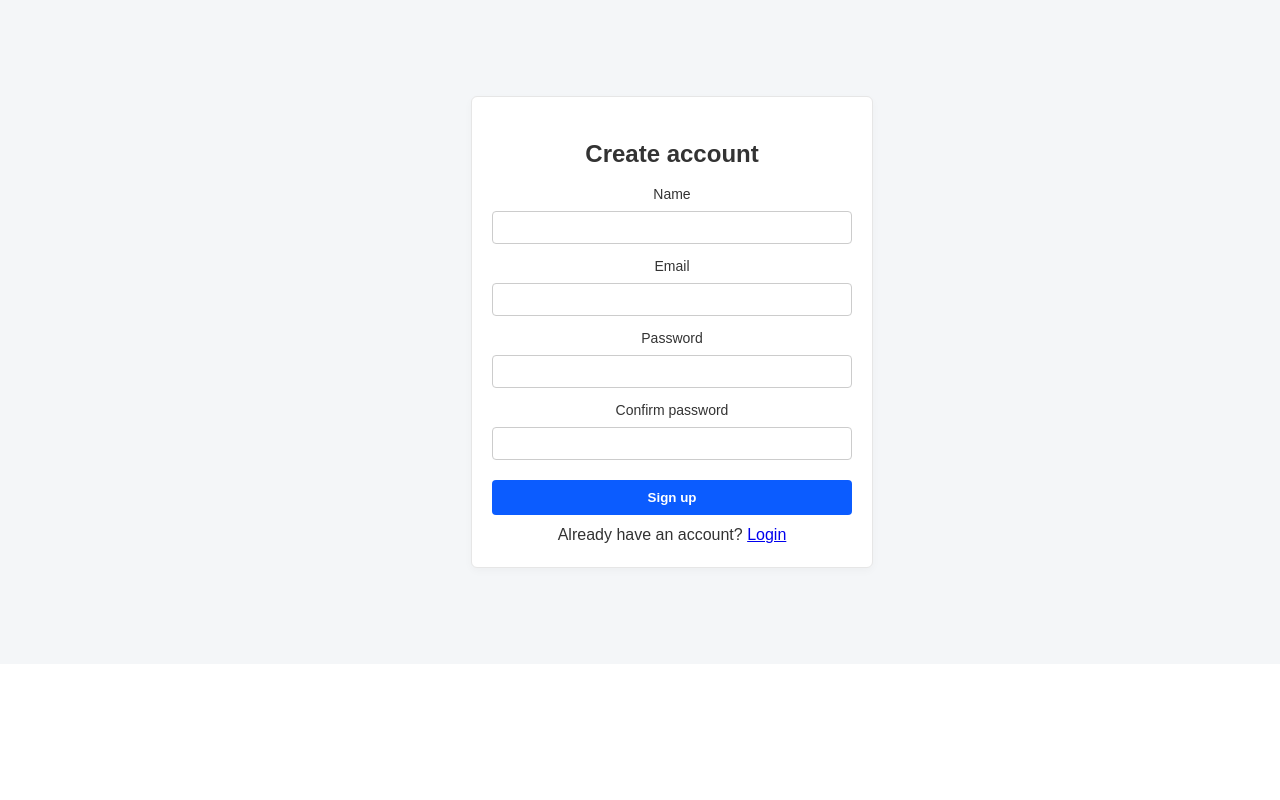
Test: shows invalid email and short password errors
In the field labelled "Email": (672, 300) [492,284,852,316], type "bad-email"
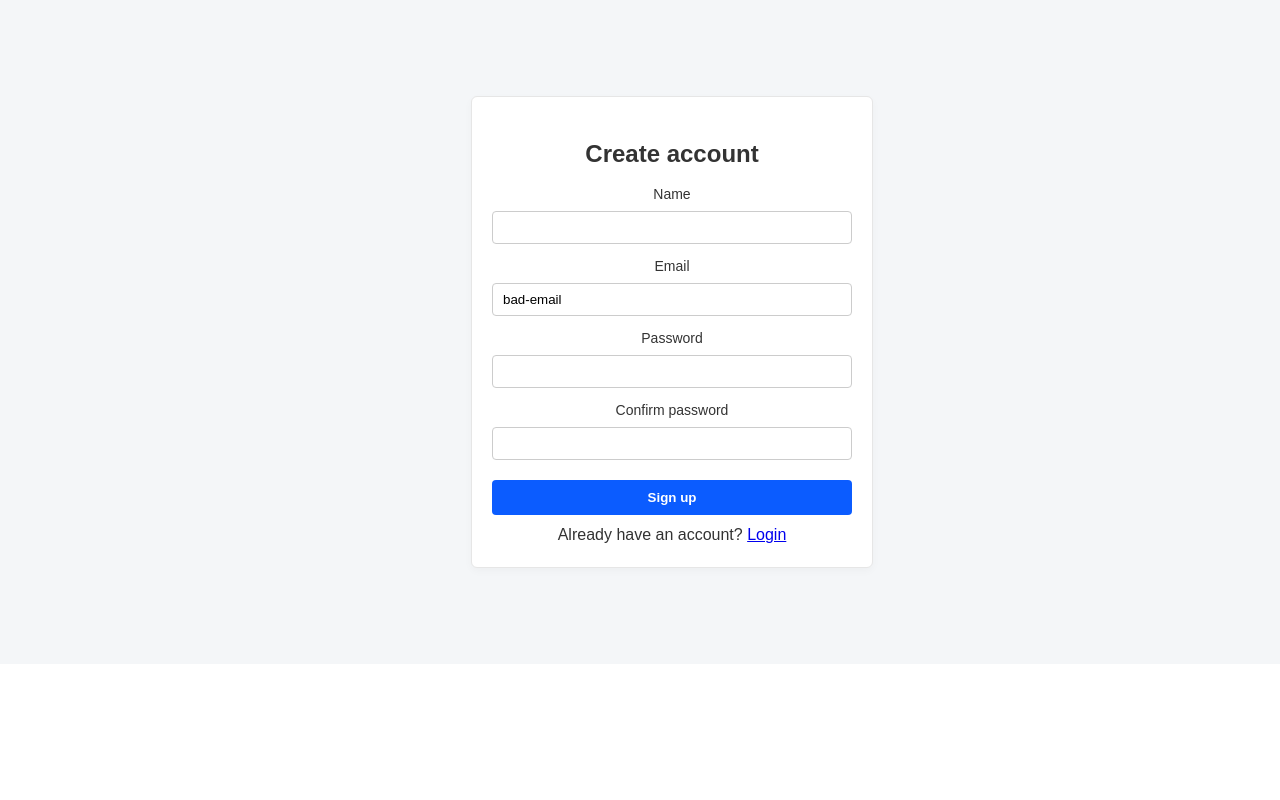
In the password field labelled "Password": (672, 372) [492,356,852,388], type "123"
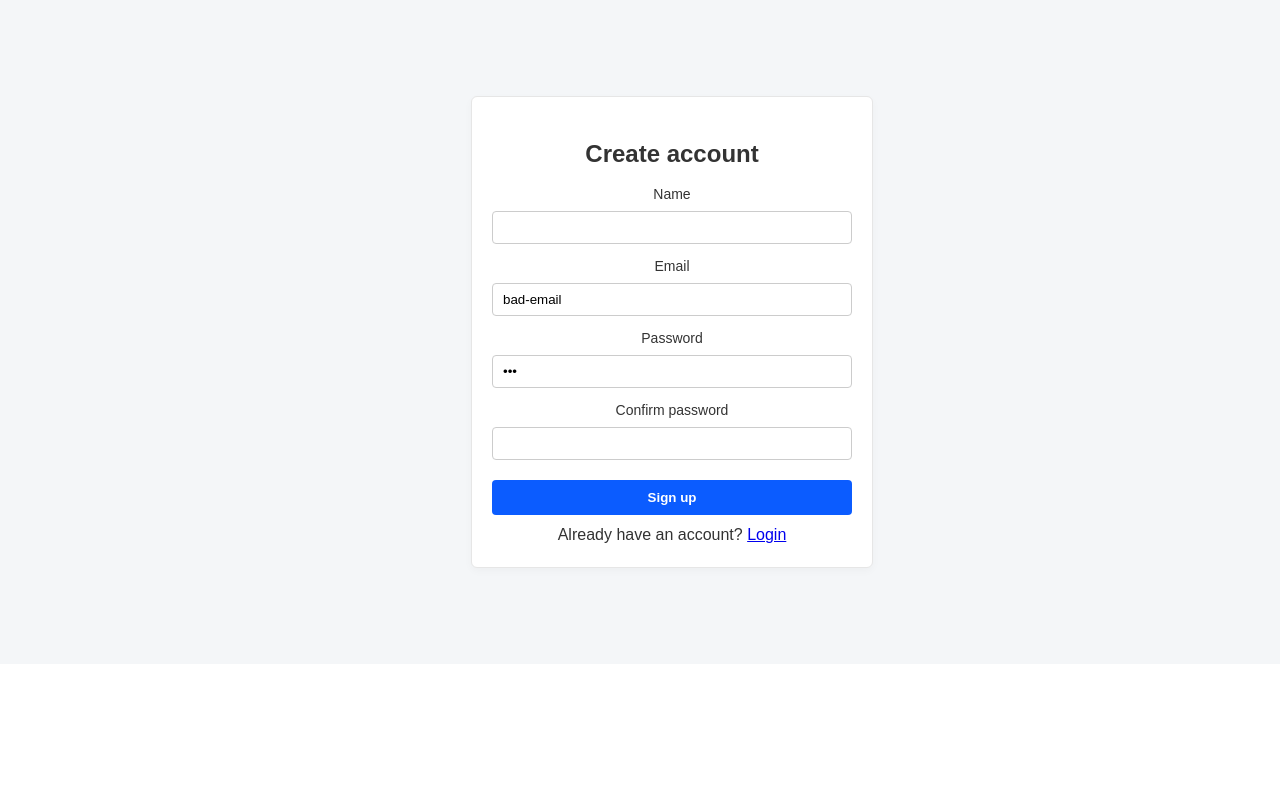
In the password field labelled "Confirm password": (672, 444) [492,428,852,460], type "1234"
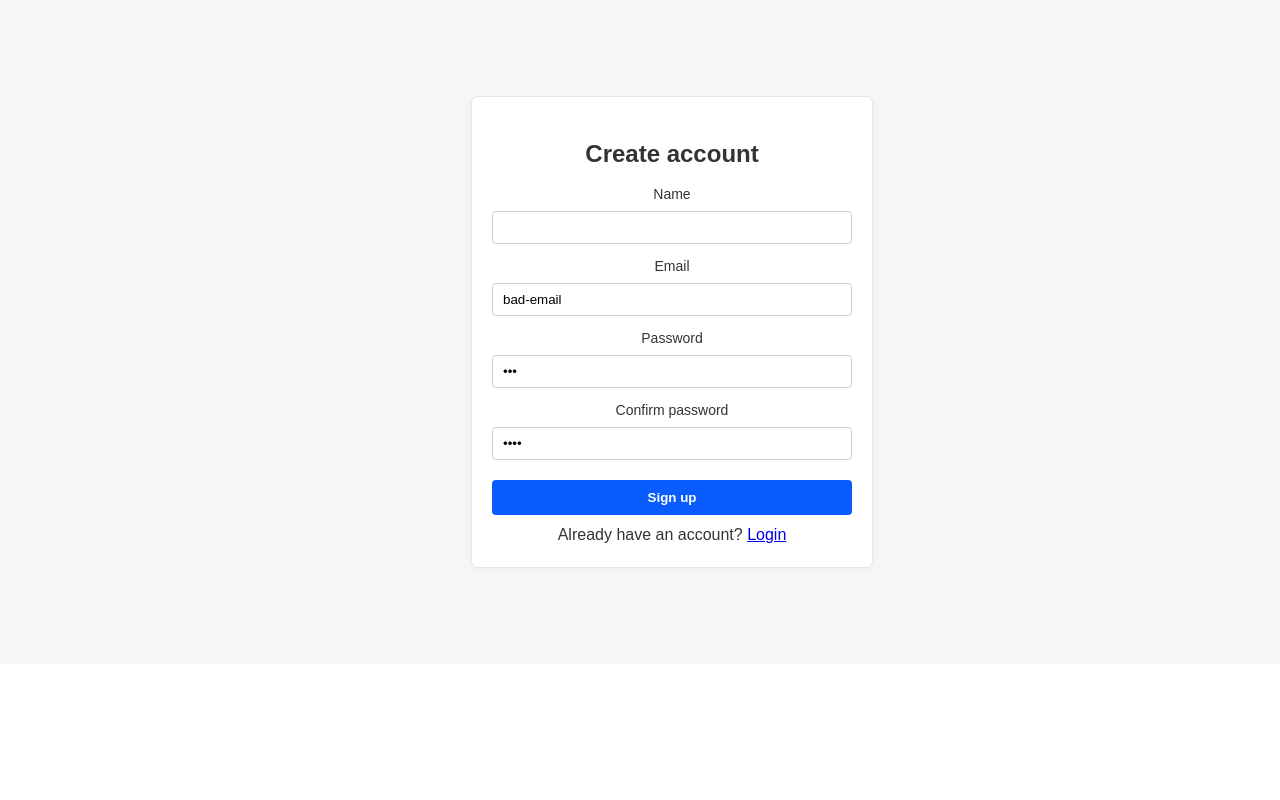
Click the button "Sign up": (672, 498) [492,480,852,516]
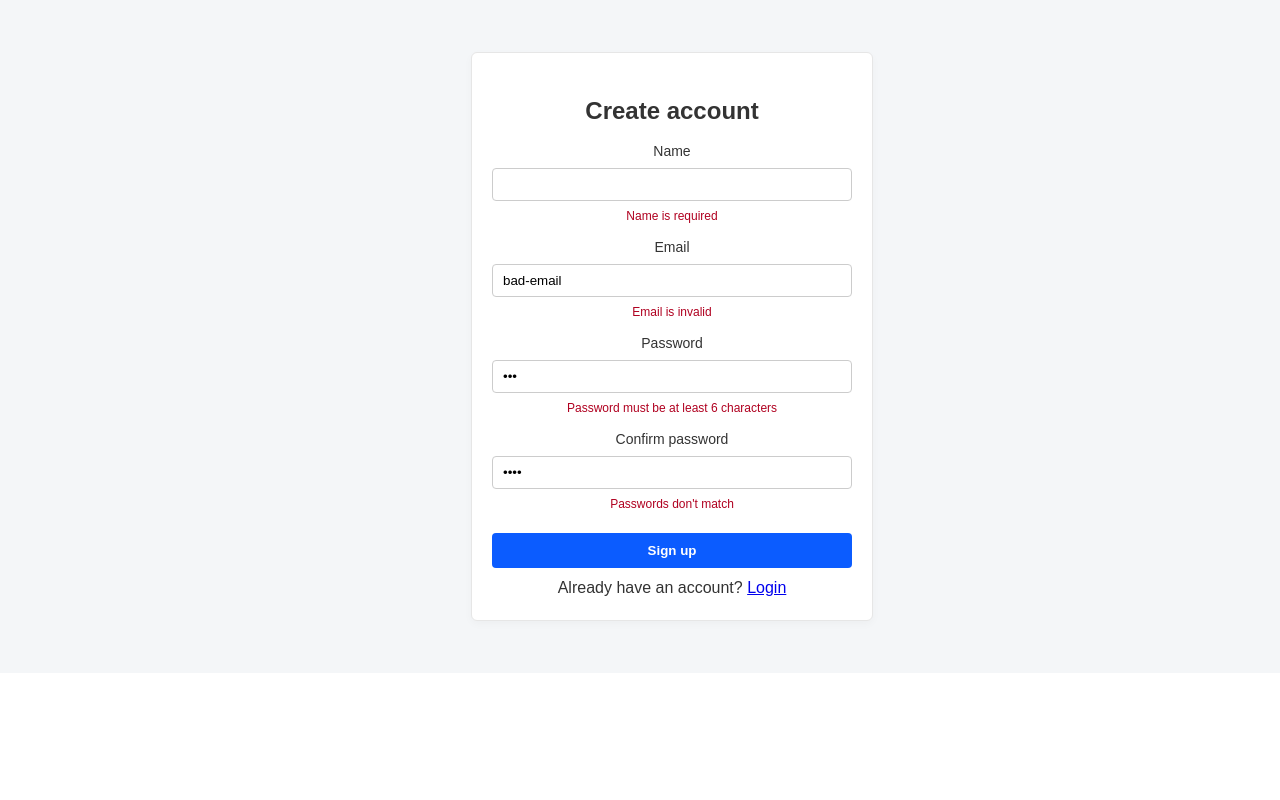
Expected: the text "Email is invalid" is shown, [632,305,712,319]
Expected: the text "Password must be at least 6 characters" is shown, [567,401,777,415]
Expected: the text "Passwords don't match" is shown, [610,497,734,511]
